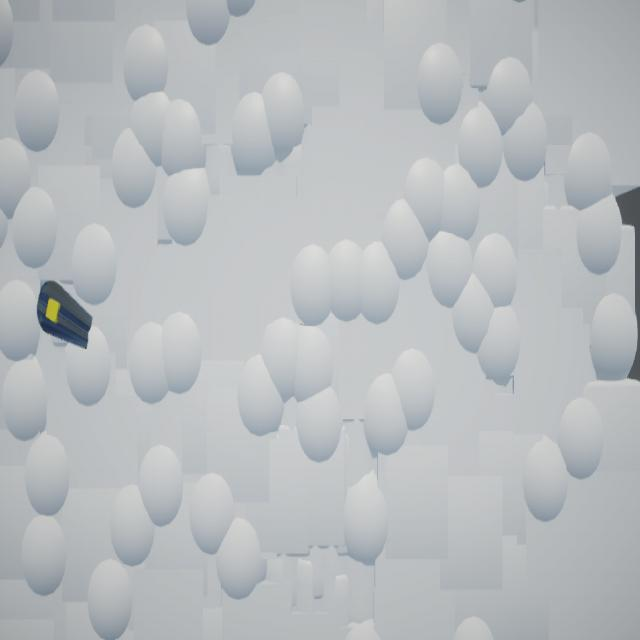handle_folk: (37, 281, 94, 350)
